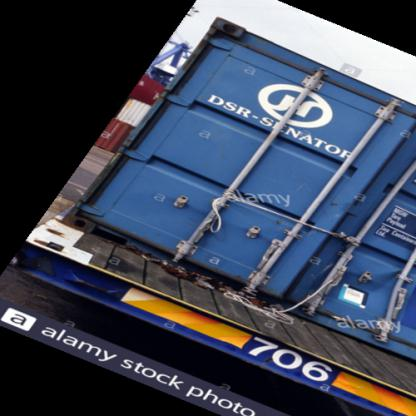Damage: (309, 192, 414, 353)
